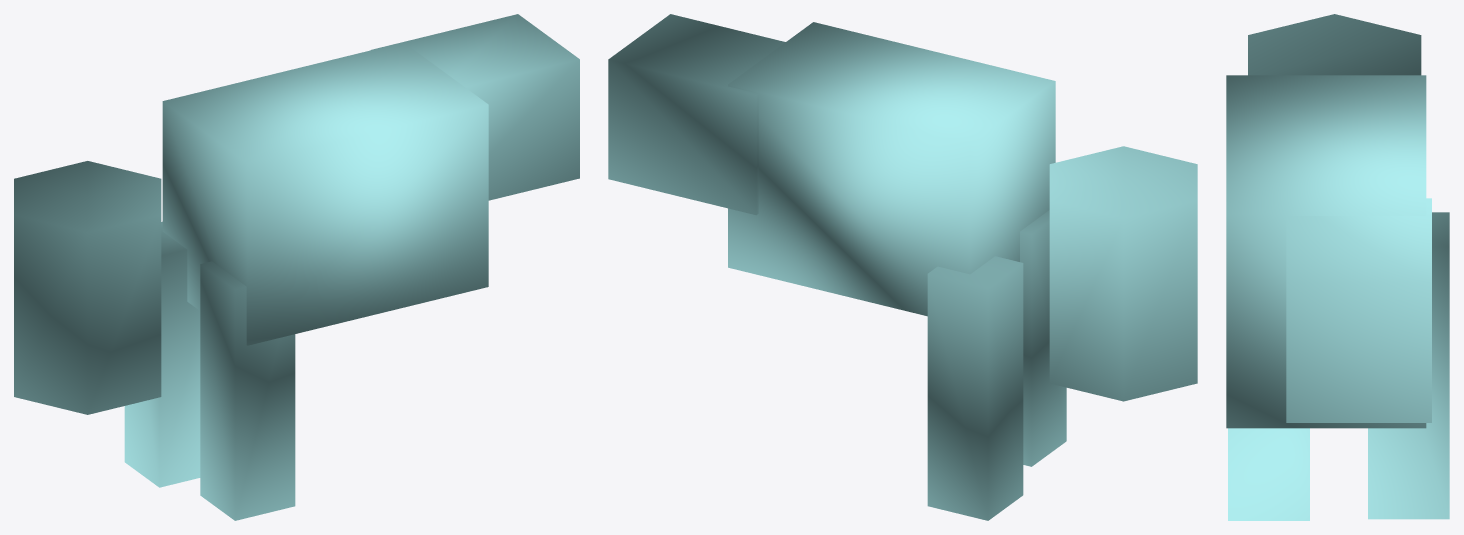
The model's file is ps2_jrpg_wolf_enemy.obj.
The picture shows the model from 3 angles, left to right: view 1: azimuth 30°, elevation 25°; view 2: azimuth 150°, elevation 25°; view 3: azimuth 270°, elevation 25°; orthographic projection. The views are drawn at different scales.
Size of the model in its own units: 1.63 by 1.03 by 0.4915.
